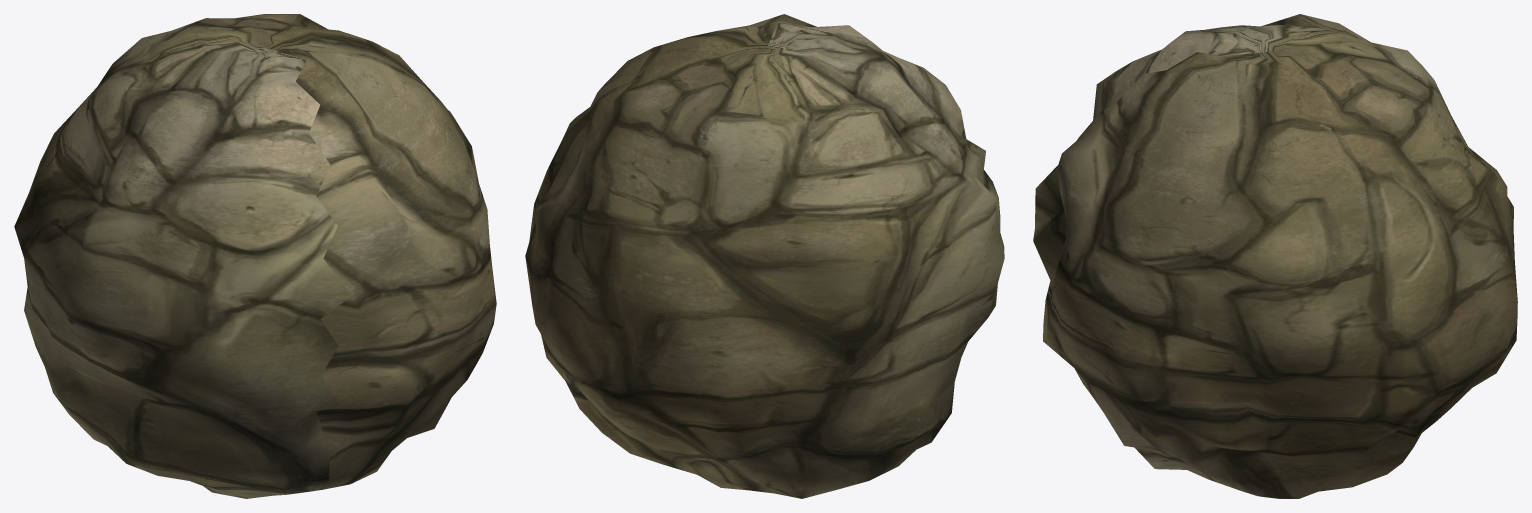
The model's file is STONE.fbx.
3 views of the same model, side by side, from view 1: azimuth 30°, elevation 25°; view 2: azimuth 150°, elevation 25°; view 3: azimuth 270°, elevation 25° (orthographic).
Visible parts, largest first — view 1: stone; view 2: stone; view 3: stone.
Part boxes in pixels (x1,y1,x2,y2): stone: [14, 14, 496, 498]; stone: [525, 14, 1004, 498]; stone: [1033, 14, 1517, 498].
Bounding box in the file's own units: 500 × 498 × 497.
